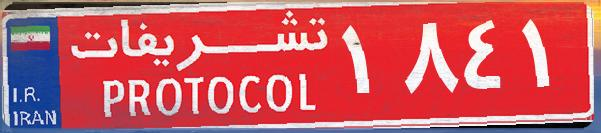1: (340, 20, 400, 115), (520, 20, 580, 115)
4: (460, 20, 520, 115)
8: (400, 20, 460, 115)
تشریفات: (60, 8, 340, 125)
